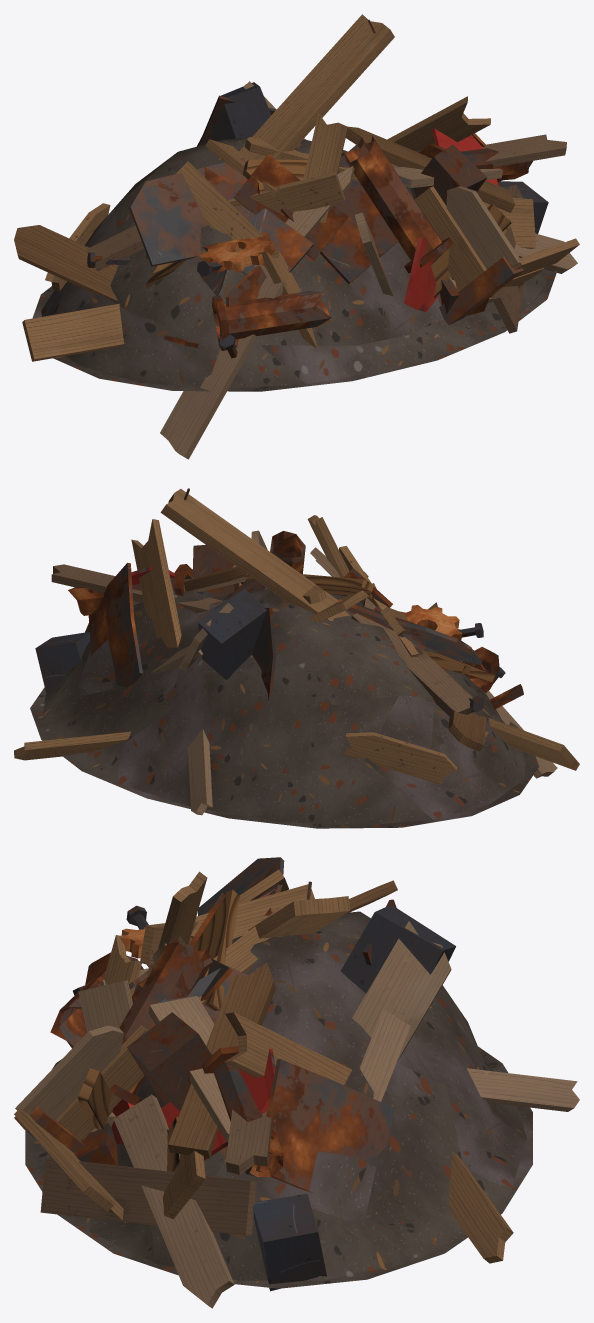
The model's file is Scrap_Heap_Small.glb.
The picture shows the model from 3 angles, top to bottom: view 1: azimuth 30°, elevation 25°; view 2: azimuth 150°, elevation 25°; view 3: azimuth 270°, elevation 25°; orthographic projection. The views are drawn at different scales.
Parts seen in each view (by area): view 1: Scrap_Heap_Small; view 2: Scrap_Heap_Small; view 3: Scrap_Heap_Small.
Part boxes in pixels (x1,y1,x2,y2): Scrap_Heap_Small: [14, 14, 579, 459]; Scrap_Heap_Small: [14, 488, 579, 828]; Scrap_Heap_Small: [14, 857, 579, 1308].
Size of the model in its own units: 1.84 by 0.9736 by 1.32.
Materials: 8 (8 with a texture image).
